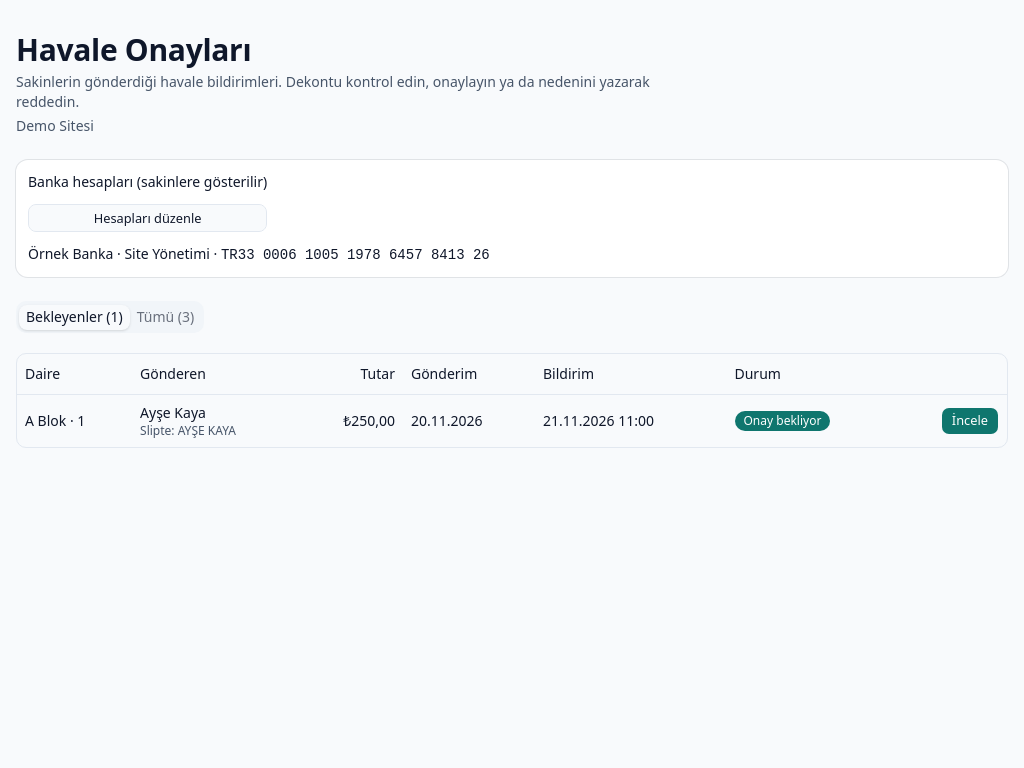
Havale Onayları: the queue › lists everything on the "Tümü" tab with the state of each notice
The width and height of the screenshot is (1024, 768).
Click the tab "Tümü (3)".
click(166, 317)  # box [130,304,201,330]
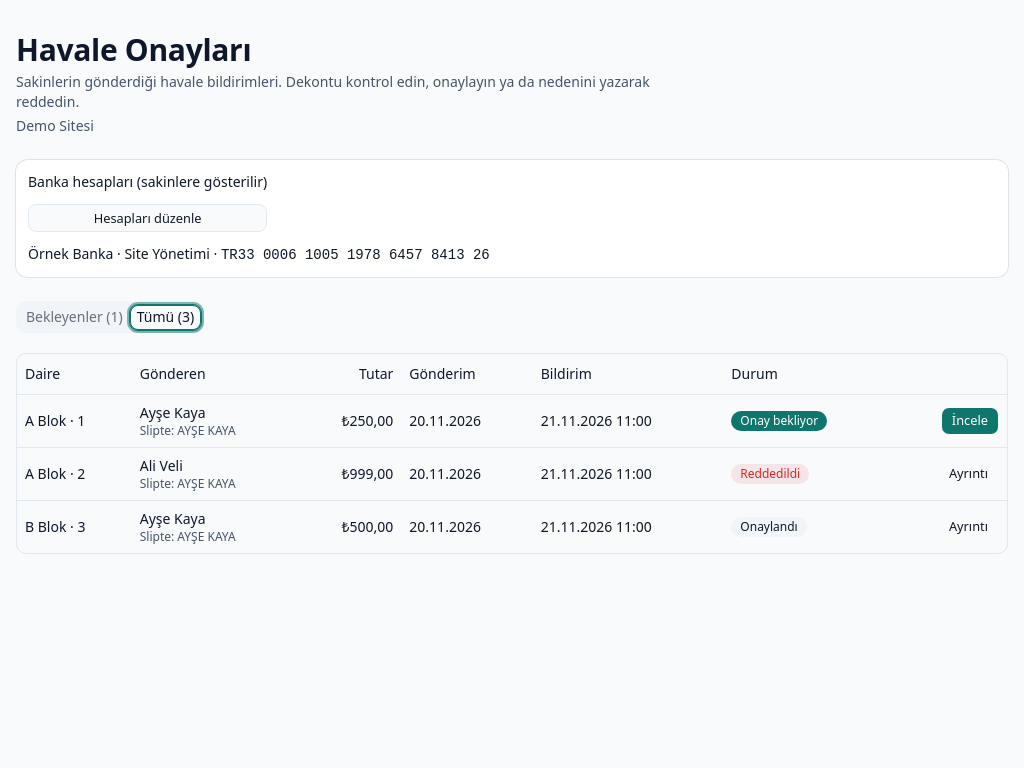
Result: the text "Reddedildi" is shown at [731,464,809,484]
Result: the text "Onaylandı" is shown at [731,517,807,537]
